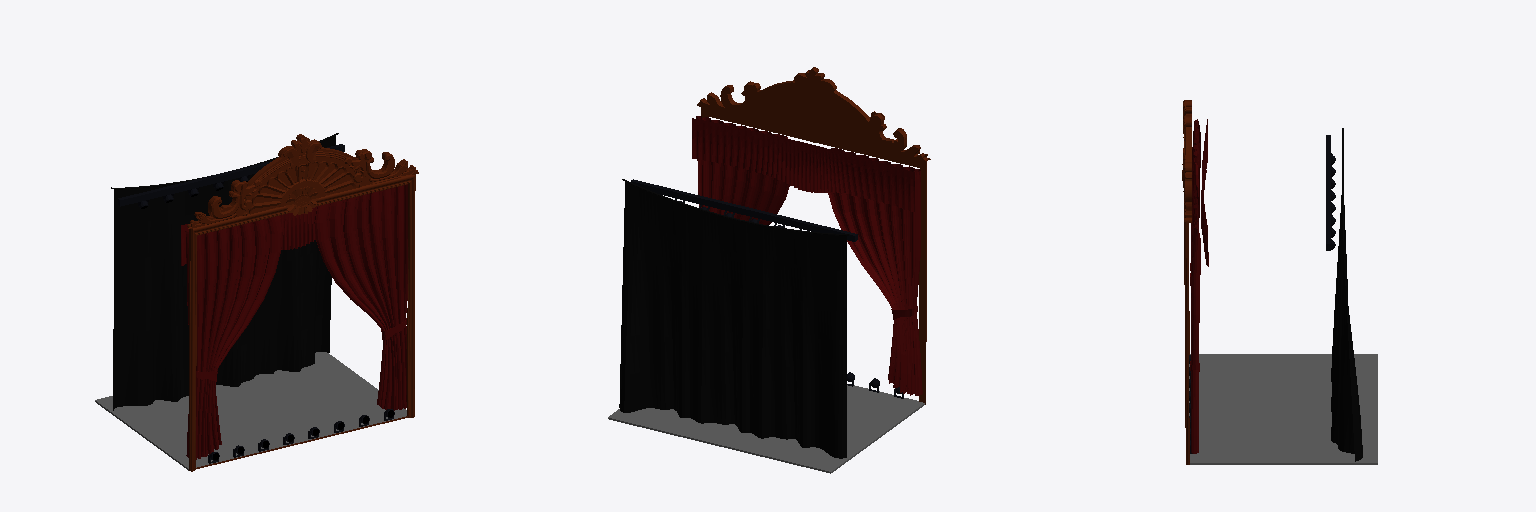
The model's file is puppet2.obj.
3 views of the same model, side by side, from view 1: azimuth 30°, elevation 25°; view 2: azimuth 150°, elevation 25°; view 3: azimuth 270°, elevation 25° (orthographic).
Visible parts, largest first — view 1: OldPuppet8_8; view 2: OldPuppet8_8; view 3: OldPuppet8_8.
Boxes of the visible parts, box(x1,y1,x2,y2) form: OldPuppet8_8: box(95, 133, 418, 471); OldPuppet8_8: box(608, 67, 930, 473); OldPuppet8_8: box(1182, 100, 1377, 464).
Size of the model in its own units: 69.31 by 88.7 by 51.15.